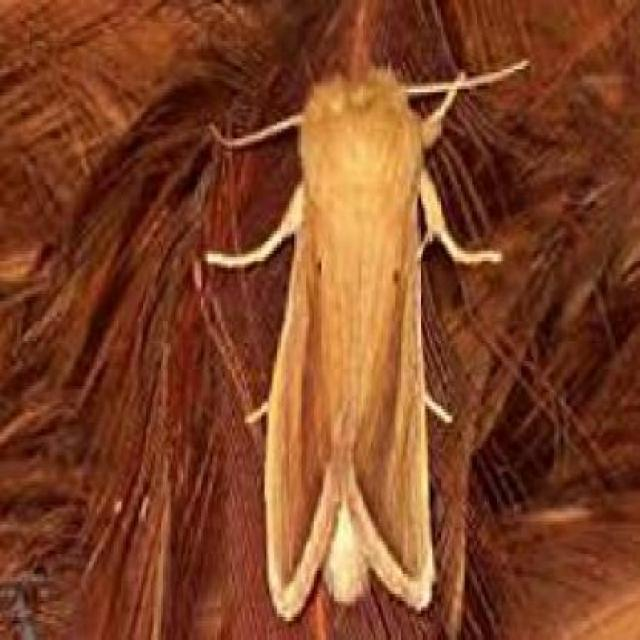stem-borer: (262, 57, 440, 625)
